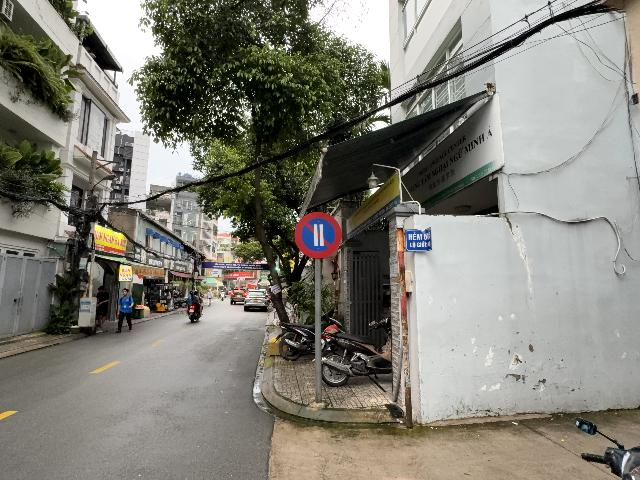cam-do-xe-ngay-chan: (295, 211, 341, 259)
